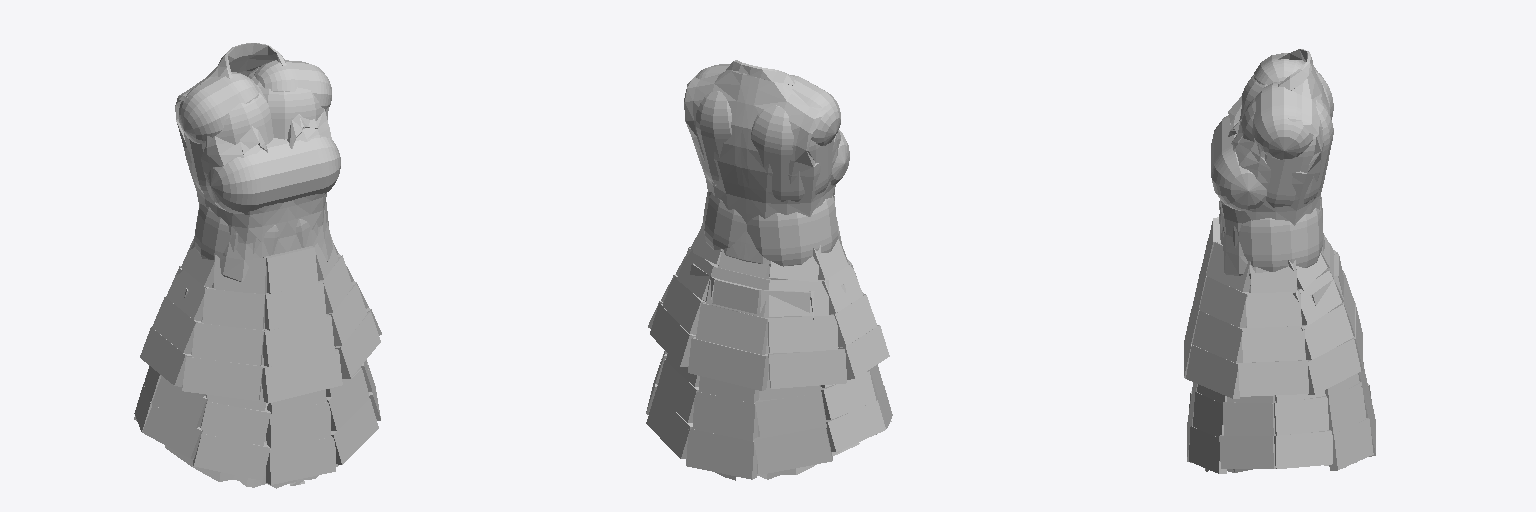
The model's file is rosebloom.obj.
3 renders of one model, left to right at view 1: azimuth 30°, elevation 25°; view 2: azimuth 150°, elevation 25°; view 3: azimuth 270°, elevation 25°, orthographic.
Parts seen in each view (by area): view 1: _mesh_Untitled.010, chichi_Capsule.116, 右肩_Capsule.112, スカート_3_0_Cube.153, スカート_3_7_Cube.160, スカート_2_0_Cube.145, スカート_2_7_Cube.152, スカート_4_0_Cube.201, スカート_4_9_Cube.210, 上半身2_Capsule.113, スカート_3_0.001_Cube.191, スカート_1_7_Cube.144 (+20 smaller); view 2: _mesh_Untitled.010, 上半身_Capsule.114, 上半身2_Capsule.113, スカート_3_4_Cube.157, スカート_3_5_Cube.158, スカート_4_6_Cube.207, スカート_4_5_Cube.206, スカート_2_4_Cube.149, スカート_2_5_Cube.150, スカート_3_5.001_Cube.196, スカート_3_6.001_Cube.197, 上半身2.001_Capsule.115 (+22 smaller); view 3: _mesh_Untitled.010, 上半身.001_Capsule.117, 左肩_Capsule.111, chichi_Capsule.116, 上半身2.001_Capsule.115, スカート_3_2_Cube.155, スカート_2_2_Cube.147, スカート_4_3_Cube.204, スカート_1_2_Cube.139, スカート_3_1_Cube.154, スカート_3_3.001_Cube.194, スカート_3_3_Cube.156 (+15 smaller).
Boxes of the visible parts, box(x1,y1,x2,y2) form: _mesh_Untitled.010: box(165, 43, 338, 488); chichi_Capsule.116: box(206, 136, 340, 213); 右肩_Capsule.112: box(179, 72, 259, 143); スカート_3_0_Cube.153: box(262, 349, 342, 403); スカート_3_7_Cube.160: box(182, 357, 263, 400); スカート_2_0_Cube.145: box(263, 315, 334, 366); スカート_2_7_Cube.152: box(192, 322, 264, 365); スカート_4_0_Cube.201: box(266, 436, 335, 484); スカート_4_9_Cube.210: box(193, 434, 270, 480); 上半身2_Capsule.113: box(184, 85, 273, 194); スカート_3_0.001_Cube.191: box(266, 402, 330, 448); スカート_1_7_Cube.144: box(202, 288, 265, 329); _mesh_Untitled.010: box(684, 60, 876, 480); 上半身_Capsule.114: box(747, 196, 837, 266); 上半身2_Capsule.113: box(751, 105, 833, 201); スカート_3_4_Cube.157: box(688, 337, 768, 390); スカート_3_5_Cube.158: box(768, 349, 846, 388); スカート_4_6_Cube.207: box(753, 427, 832, 474); スカート_4_5_Cube.206: box(686, 429, 757, 479); スカート_2_4_Cube.149: box(696, 303, 767, 354); スカート_2_5_Cube.150: box(768, 315, 837, 353); スカート_3_5.001_Cube.196: box(692, 392, 758, 441); スカート_3_6.001_Cube.197: box(755, 392, 826, 437); 上半身2.001_Capsule.115: box(696, 91, 731, 185); _mesh_Untitled.010: box(1205, 49, 1356, 472); 上半身.001_Capsule.117: box(1219, 206, 1322, 271); 左肩_Capsule.111: box(1252, 81, 1313, 159); chichi_Capsule.116: box(1211, 115, 1266, 210); 上半身2.001_Capsule.115: box(1241, 97, 1333, 207); スカート_3_2_Cube.155: box(1238, 360, 1308, 396); スカート_2_2_Cube.147: box(1242, 326, 1305, 362); スカート_4_3_Cube.204: box(1274, 430, 1332, 468); スカート_1_2_Cube.139: box(1246, 291, 1301, 327); スカート_3_1_Cube.154: box(1186, 345, 1239, 398); スカート_3_3.001_Cube.194: box(1274, 396, 1328, 435); スカート_3_3_Cube.156: box(1308, 338, 1360, 394).
Size of the model in its own units: 1.15 by 1.89 by 0.8217.